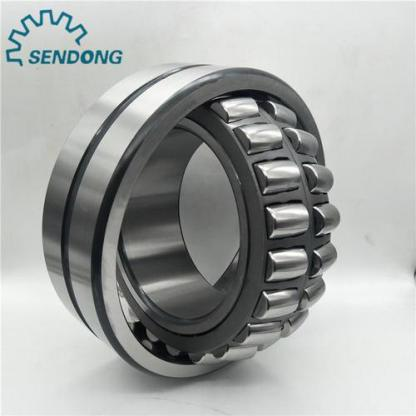FOD: (38, 54, 342, 390)
